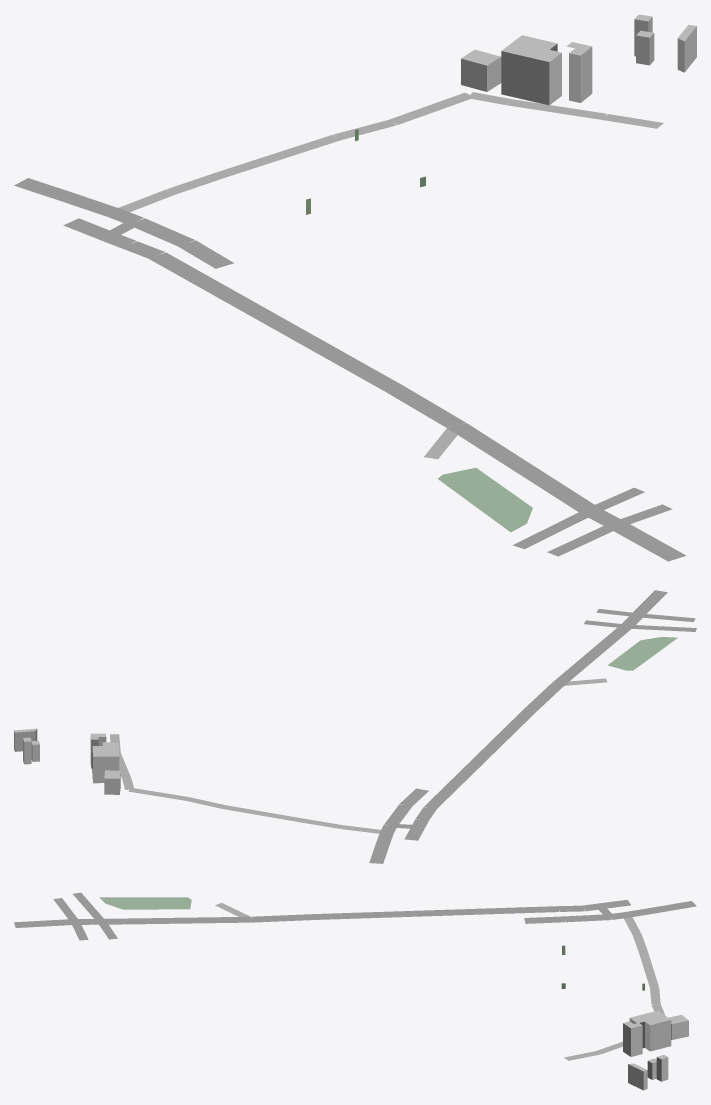
3 views of the same model, one above another, from view 1: azimuth 30°, elevation 25°; view 2: azimuth 150°, elevation 25°; view 3: azimuth 270°, elevation 25° (orthographic). The views are drawn at different scales.
Size of the model in its own units: 340 by 23.86 by 512.
